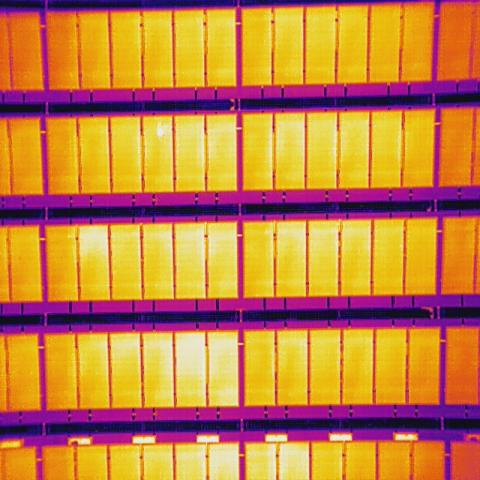fault: (156, 122, 167, 138)
